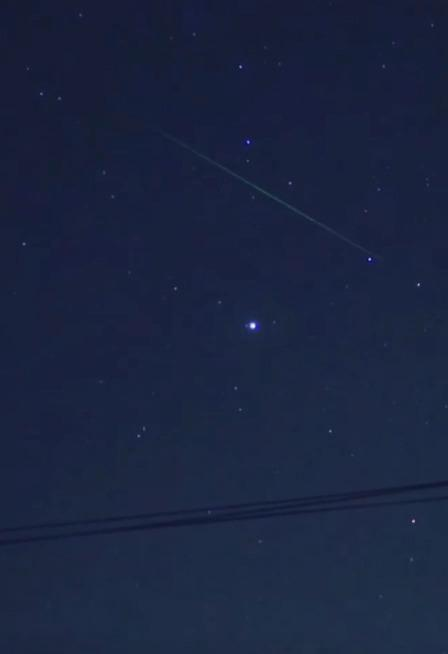meteorite: (134, 121, 333, 229)
